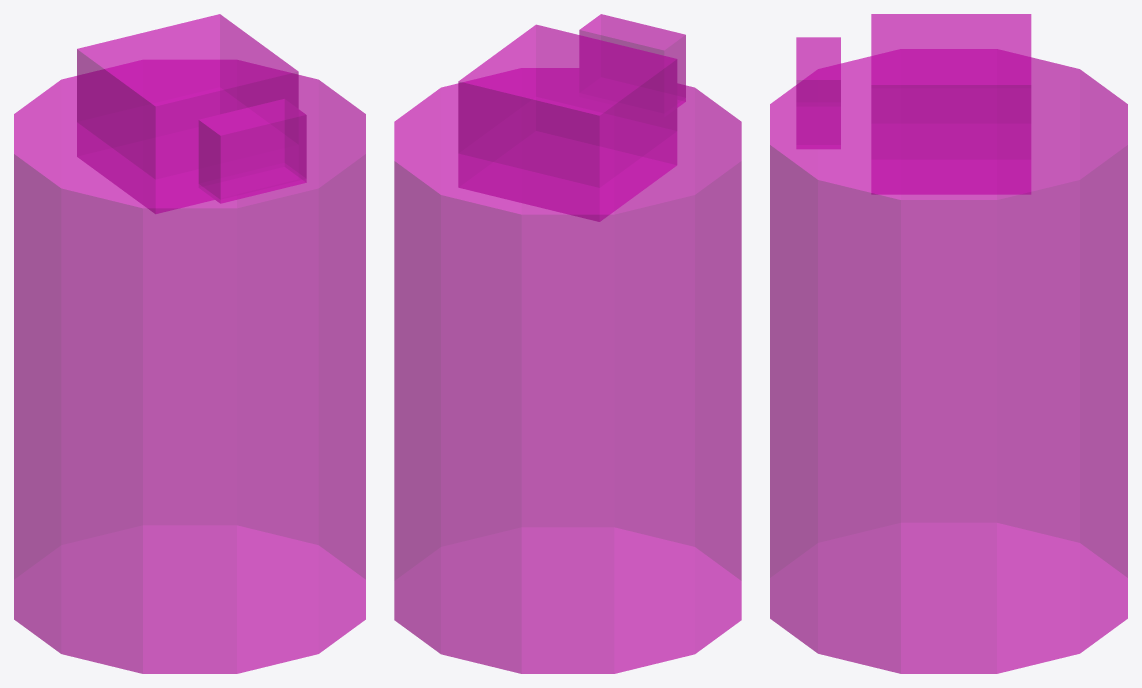
File: SM_Prop_CashGrab_01_Collision.fbx
3 renders of one model, left to right at view 1: azimuth 30°, elevation 25°; view 2: azimuth 150°, elevation 25°; view 3: azimuth 270°, elevation 25°, orthographic. The views are drawn at different scales.
Visible parts, largest first — view 1: SM_Prop_CashGrab_01_Collision; view 2: SM_Prop_CashGrab_01_Collision; view 3: SM_Prop_CashGrab_01_Collision.
Part boxes in pixels (bbox=[...]): SM_Prop_CashGrab_01_Collision: bbox=[14, 14, 365, 673]; SM_Prop_CashGrab_01_Collision: bbox=[394, 14, 741, 673]; SM_Prop_CashGrab_01_Collision: bbox=[770, 14, 1127, 673].
Bounding box in the file's own units: 168 × 284 × 168.
